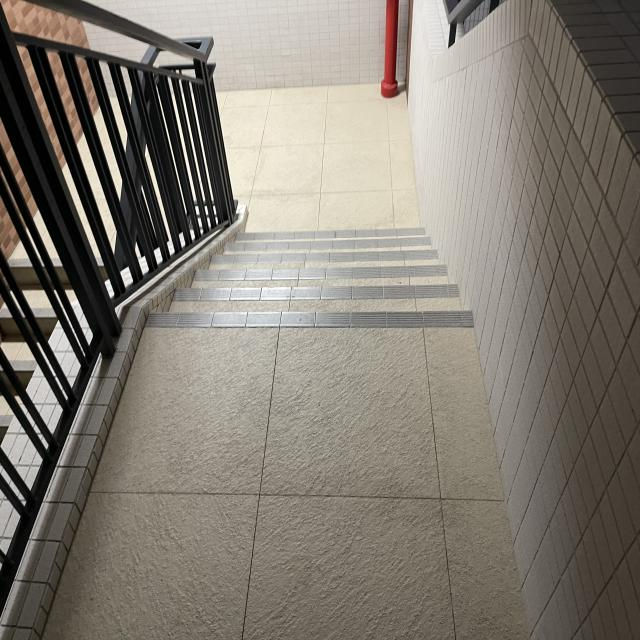Stairs: (121, 198, 502, 368)
